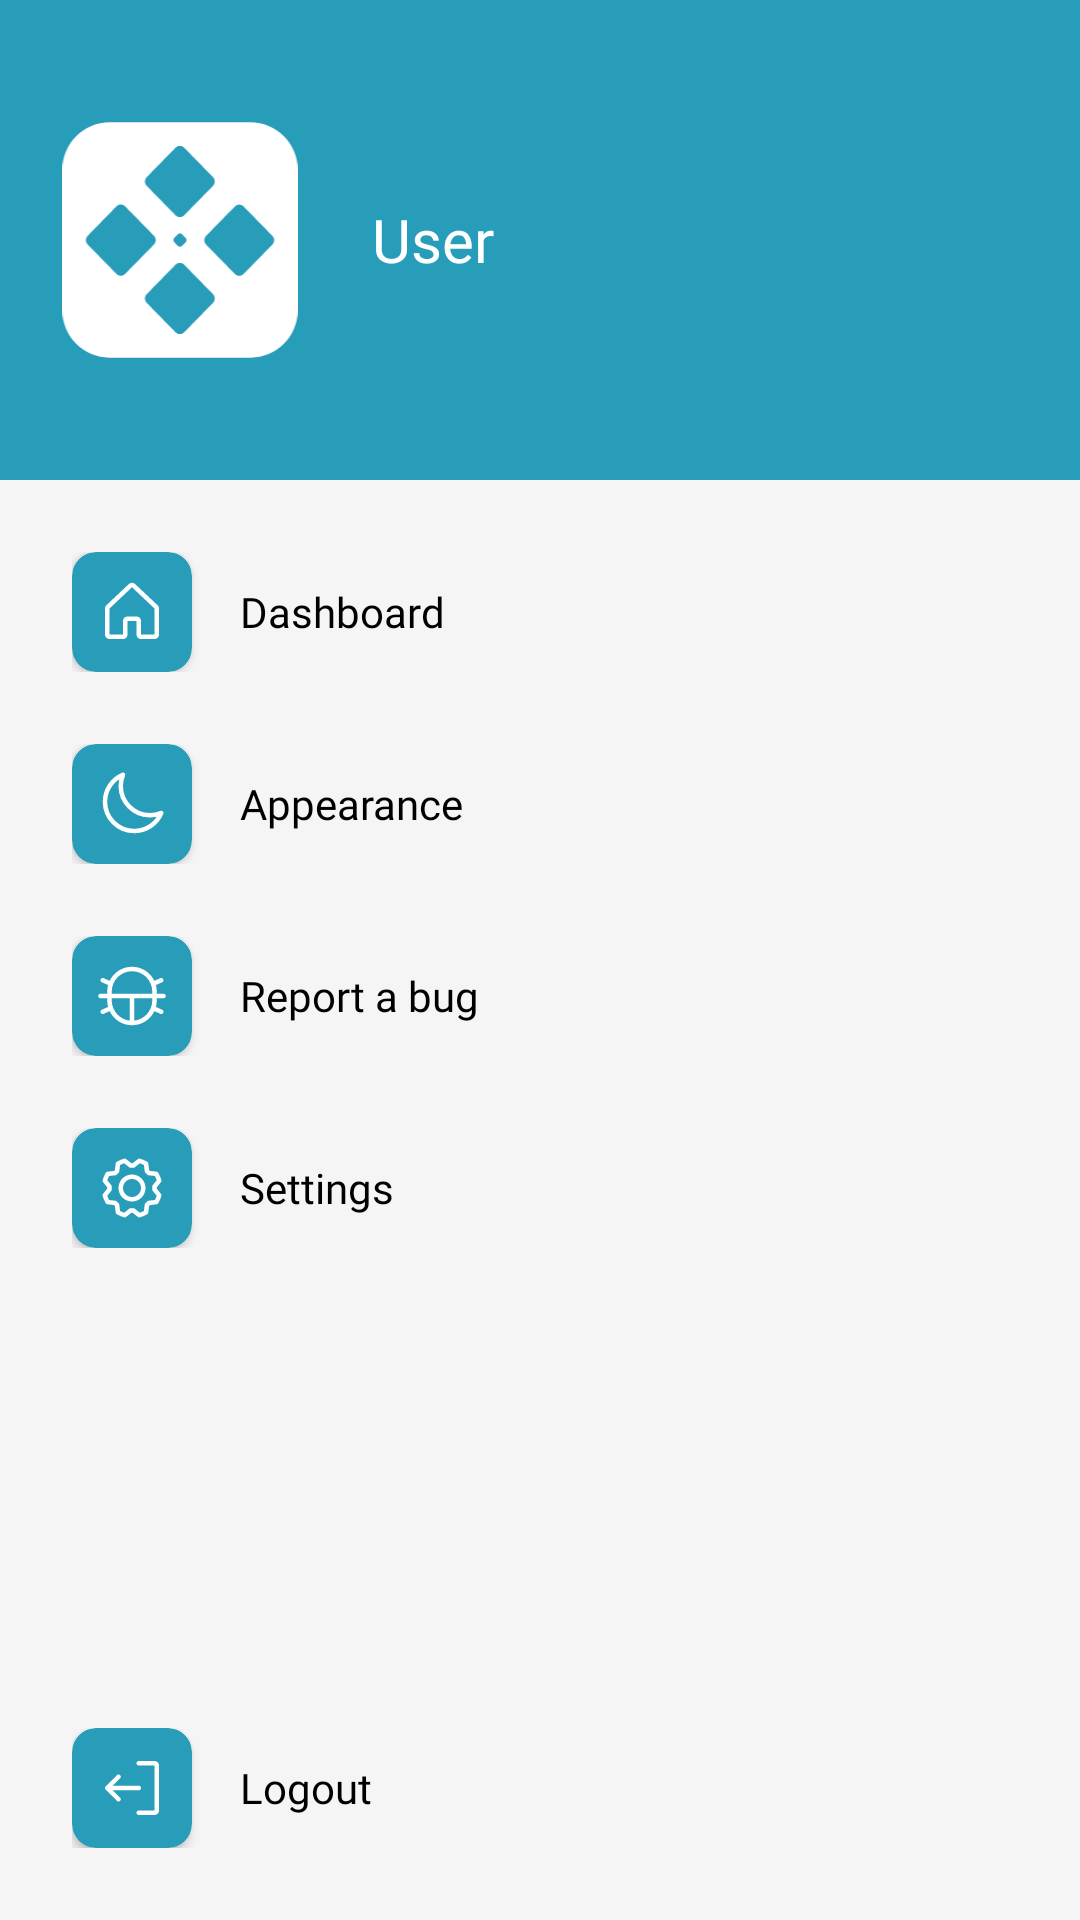

Icons on this 1080w x 1920h Android screen, each with the point to tap as [x,y]:
home: [132,610]
